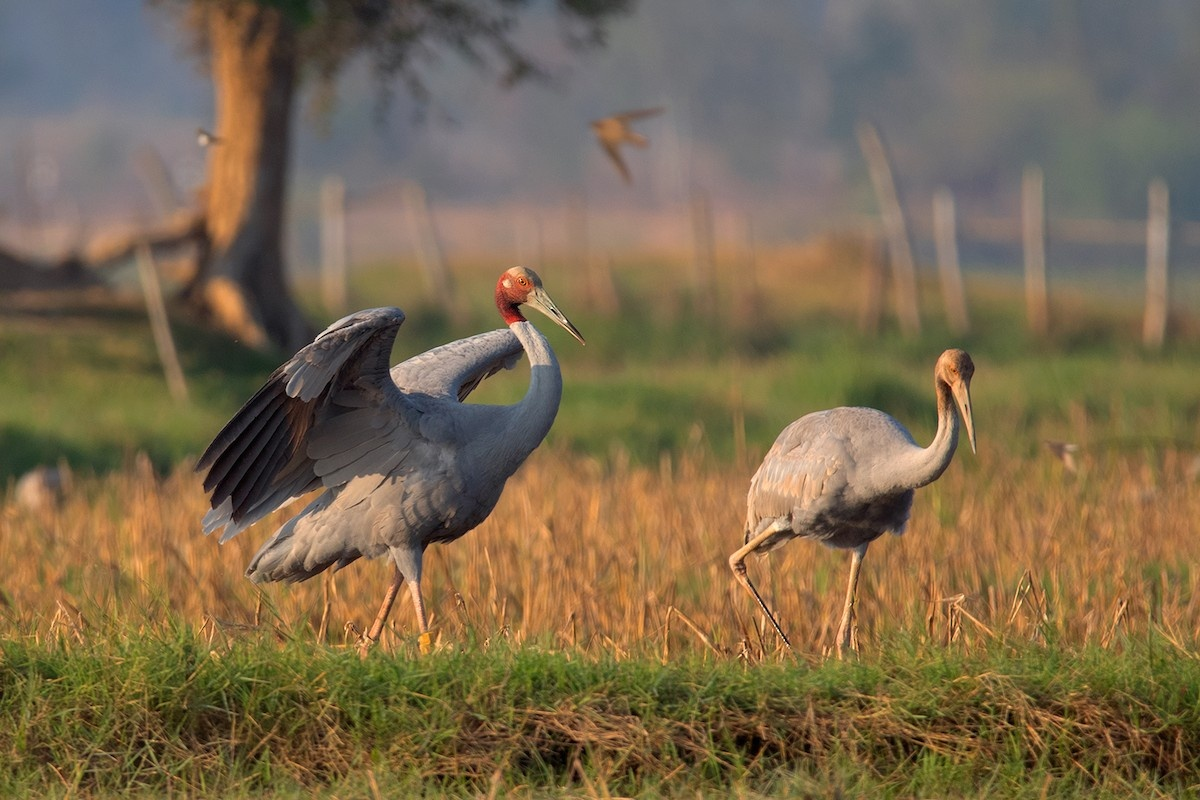crane: (191, 262, 595, 657), (703, 343, 987, 667)
